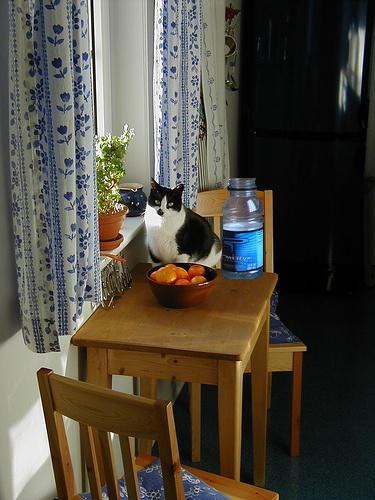tampered: (223, 179, 264, 279)
